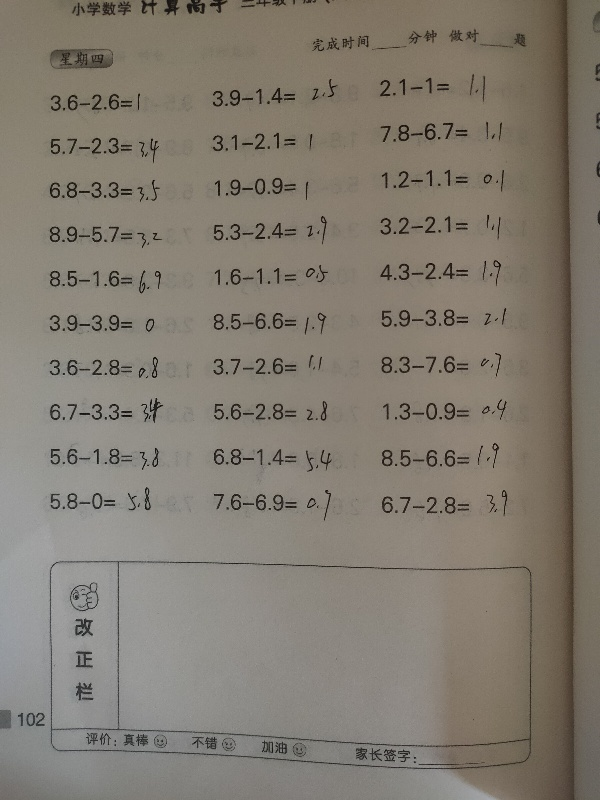equation: (376, 343, 512, 388), (44, 223, 181, 263), (39, 264, 173, 304), (39, 395, 172, 435), (352, 487, 512, 520), (203, 209, 337, 248), (375, 397, 520, 433), (40, 131, 177, 169), (209, 489, 339, 529), (368, 440, 512, 475), (199, 304, 339, 340), (369, 211, 511, 245), (377, 256, 512, 291), (200, 351, 341, 383), (376, 112, 512, 145), (44, 444, 172, 479), (203, 441, 333, 475), (41, 488, 179, 519), (371, 71, 500, 104), (208, 260, 335, 293), (45, 177, 172, 209), (208, 80, 342, 108), (41, 355, 175, 383), (378, 165, 507, 194), (377, 304, 509, 329), (211, 398, 332, 425), (46, 311, 159, 339), (210, 172, 312, 201), (206, 128, 316, 154), (47, 90, 144, 117)
